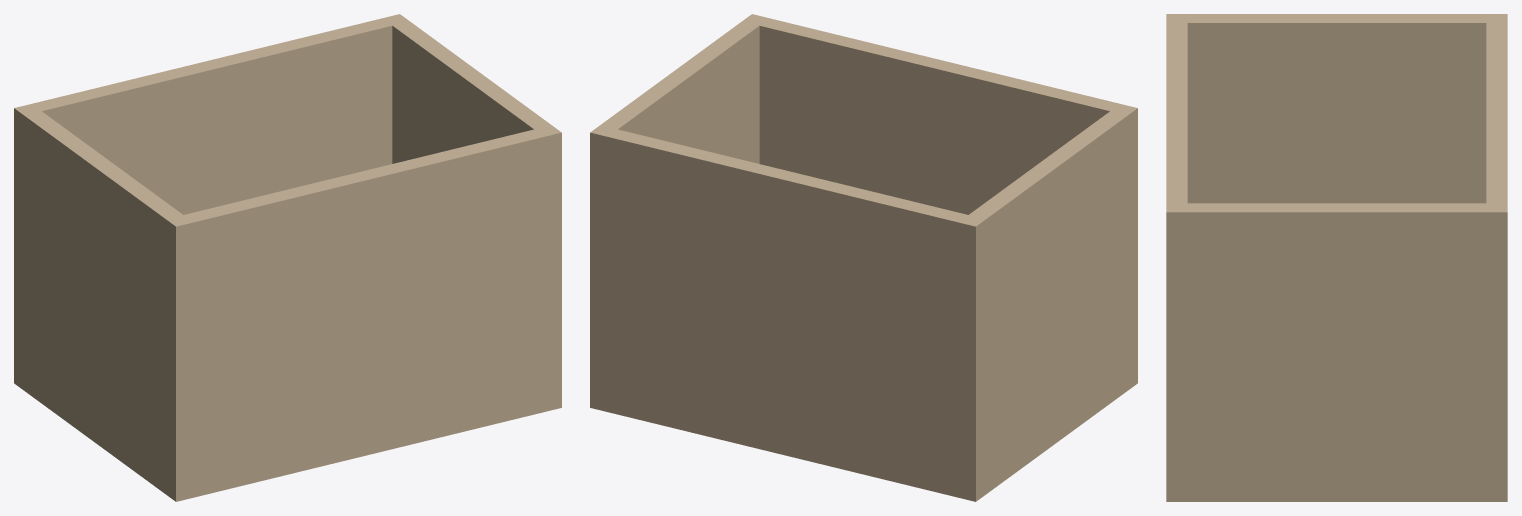
File: cardbox.glb
3 renders of one model, left to right at view 1: azimuth 30°, elevation 25°; view 2: azimuth 150°, elevation 25°; view 3: azimuth 270°, elevation 25°, orthographic. The views are drawn at different scales.
Parts seen in each view (by area): view 1: NC_cardbox; view 2: NC_cardbox; view 3: NC_cardbox.
Boxes of the visible parts, x1,y1,x2,y2 form: NC_cardbox: [14, 14, 561, 501]; NC_cardbox: [590, 14, 1137, 501]; NC_cardbox: [1166, 14, 1507, 501].
Bounding box in the file's own units: 0.44 × 0.3 × 0.32.
